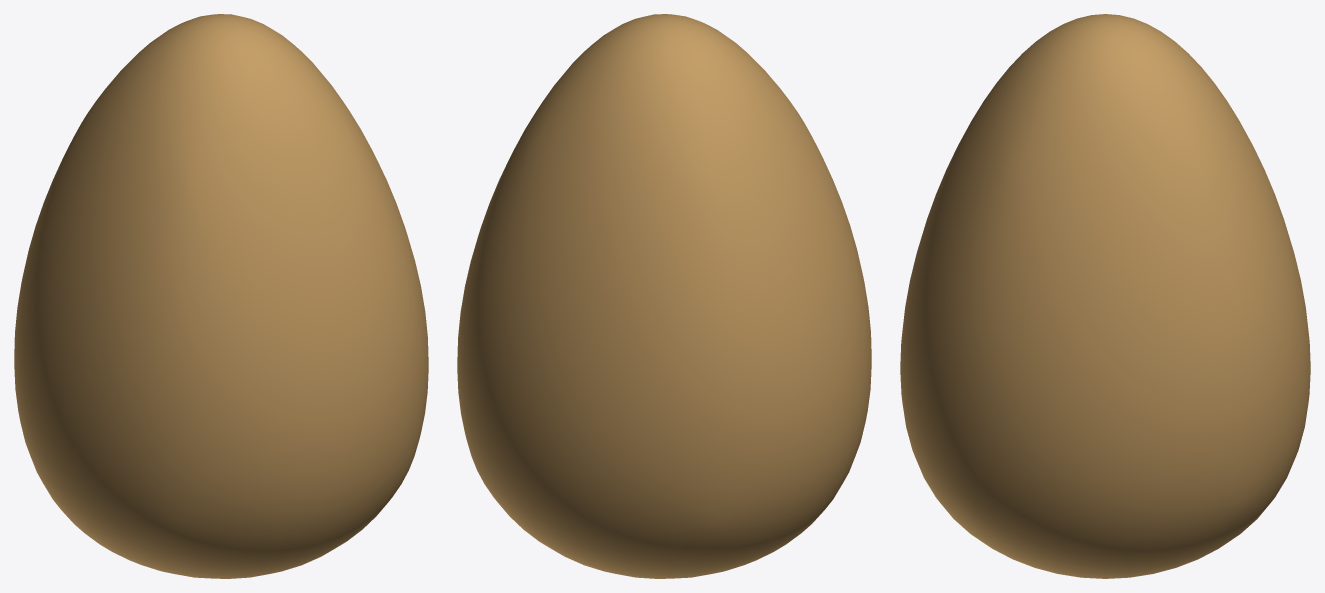
File: Egg01.fbx
3 views of the same model, side by side, from view 1: azimuth 30°, elevation 25°; view 2: azimuth 150°, elevation 25°; view 3: azimuth 270°, elevation 25° (orthographic).
Parts seen in each view (by area): view 1: Egg01; view 2: Egg01; view 3: Egg01.
Part boxes in pixels (x1=…): Egg01: x1=14, y1=14, x2=428, y2=578; Egg01: x1=457, y1=14, x2=871, y2=578; Egg01: x1=900, y1=14, x2=1310, y2=578.
Size of the model in its own units: 146 by 209 by 146.
